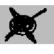not correct: (3, 5, 49, 44)
